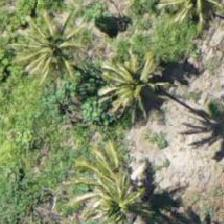coconut_tree: (86, 45, 176, 135), (71, 148, 161, 223), (0, 0, 78, 85), (142, 0, 223, 49)
